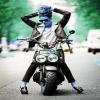motorcycles: (31, 39, 67, 96)
